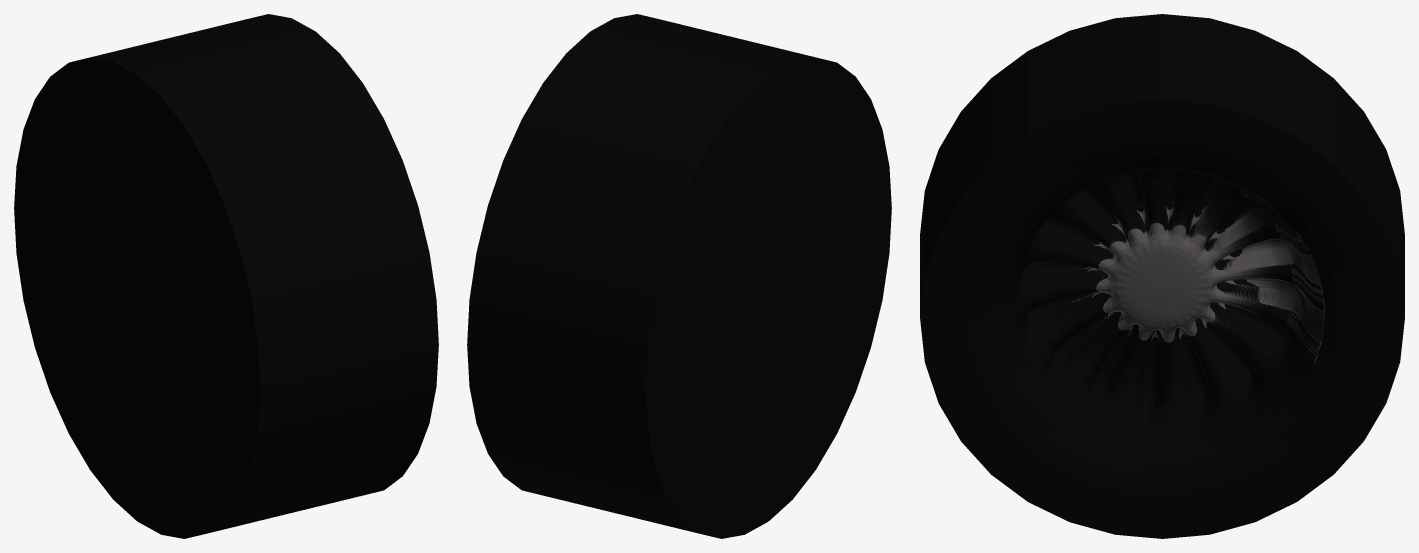
The model's file is Wheel.fbx.
3 renders of one model, left to right at view 1: azimuth 30°, elevation 25°; view 2: azimuth 150°, elevation 25°; view 3: azimuth 270°, elevation 25°, orthographic.
Parts seen in each view (by area): view 1: Front Left Wheel; view 2: Front Left Wheel; view 3: Front Left Wheel.
Part boxes in pixels (x1=…): Front Left Wheel: x1=14, y1=14, x2=438, y2=538; Front Left Wheel: x1=467, y1=14, x2=891, y2=538; Front Left Wheel: x1=920, y1=14, x2=1404, y2=538.
Size of the model in its own units: 0.3467 by 0.8283 by 0.8284.
1 material, 1 textured.
